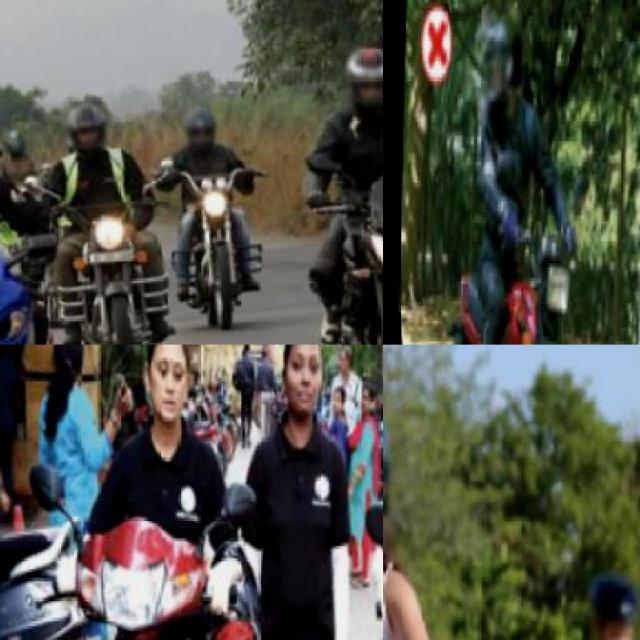With Helmet: (468, 4, 532, 130), (383, 376, 412, 576), (570, 571, 638, 638), (329, 49, 382, 128), (56, 100, 110, 158), (173, 111, 218, 163), (0, 125, 25, 162)
Without Helmet: (123, 344, 208, 442)
